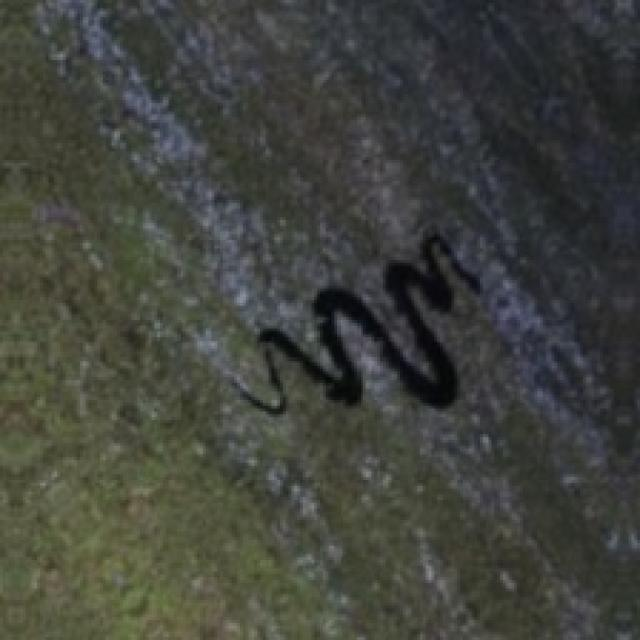king cobra: (234, 234, 477, 411)
